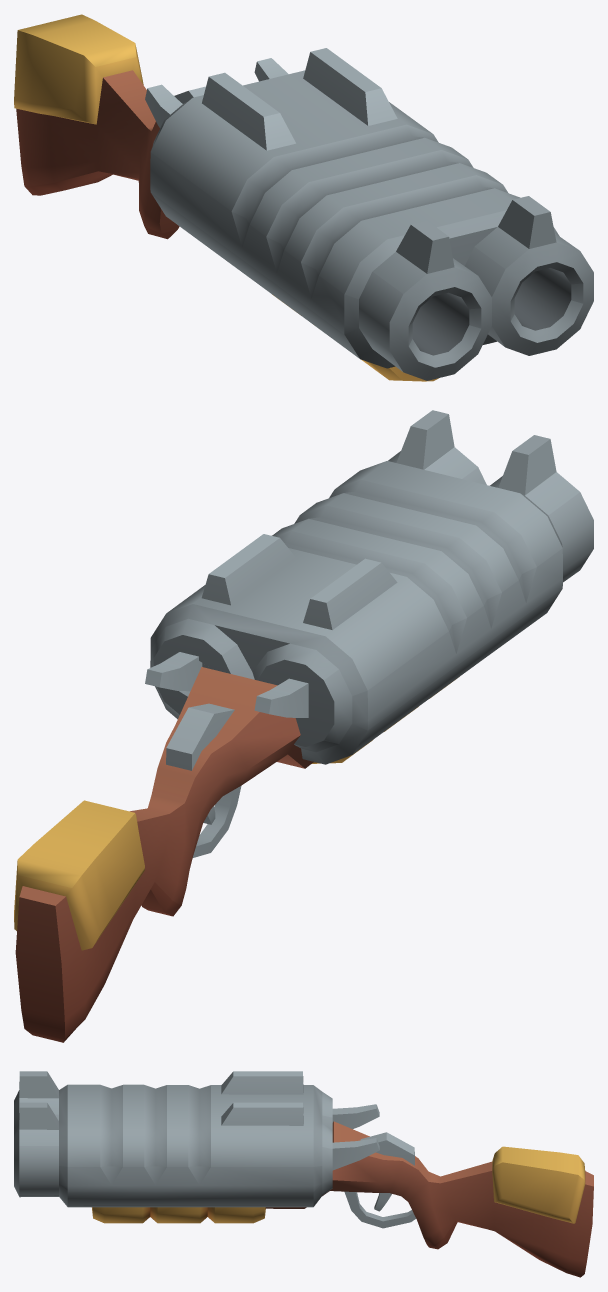
The model's file is shotgun.obj.
3 views of the same model, one above another, from view 1: azimuth 30°, elevation 25°; view 2: azimuth 150°, elevation 25°; view 3: azimuth 270°, elevation 25° (orthographic). The views are drawn at different scales.
Visible parts, largest first — view 1: shotgun; view 2: shotgun; view 3: shotgun.
Part boxes in pixels (x1=…): shotgun: x1=14, y1=14, x2=593, y2=381; shotgun: x1=14, y1=410, x2=593, y2=1042; shotgun: x1=14, y1=1071, x2=593, y2=1277.
Bounding box in the file's own units: 0.4594 × 0.5817 × 1.67.
Materials: 1 (1 with a texture image).
